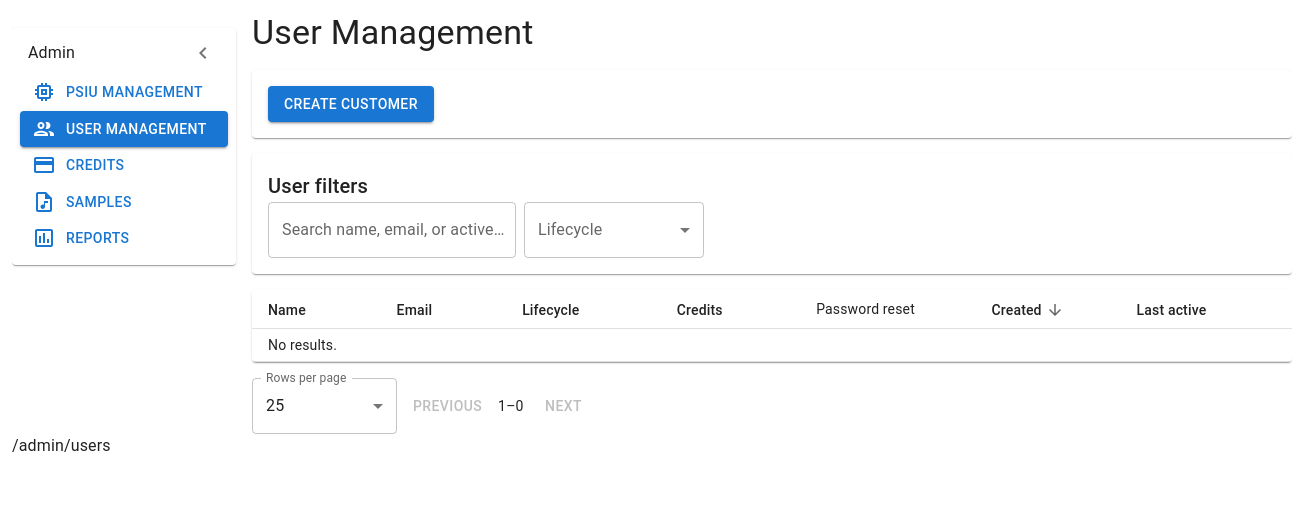
Scenario: administrator directory tables › ignores a stale directory response after the search URL changes
In the field labelled "Search name, email, or active PSIU serial": (392, 230) top-left (268, 202), bottom-right (516, 258), type "first"
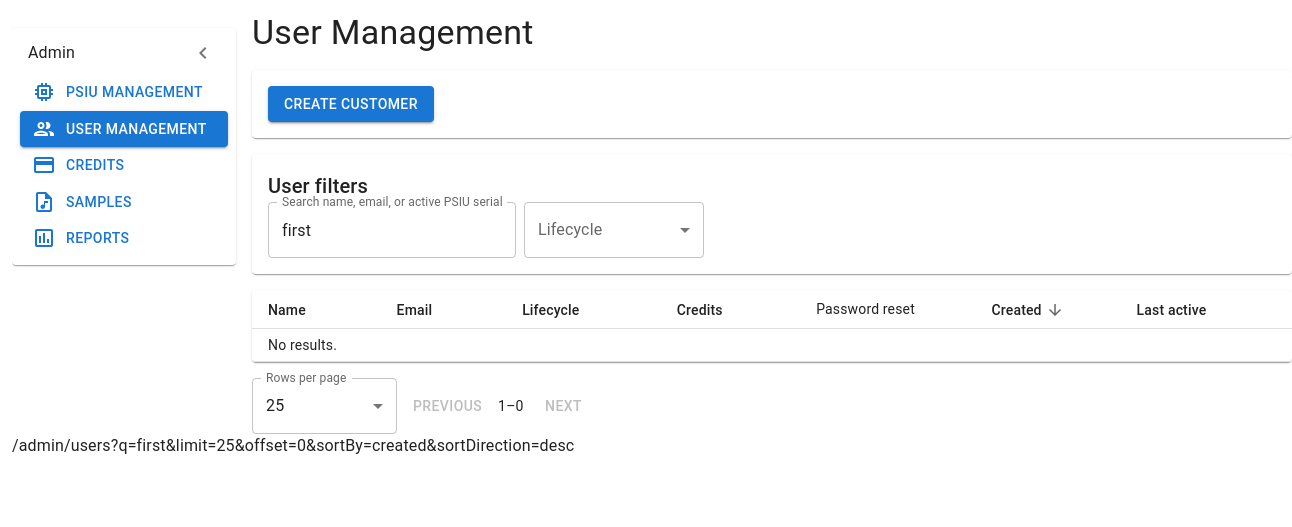
Replace the text in the field labelled "Search name, email, or active PSIU serial" with "second": (392, 230) top-left (268, 202), bottom-right (516, 258)
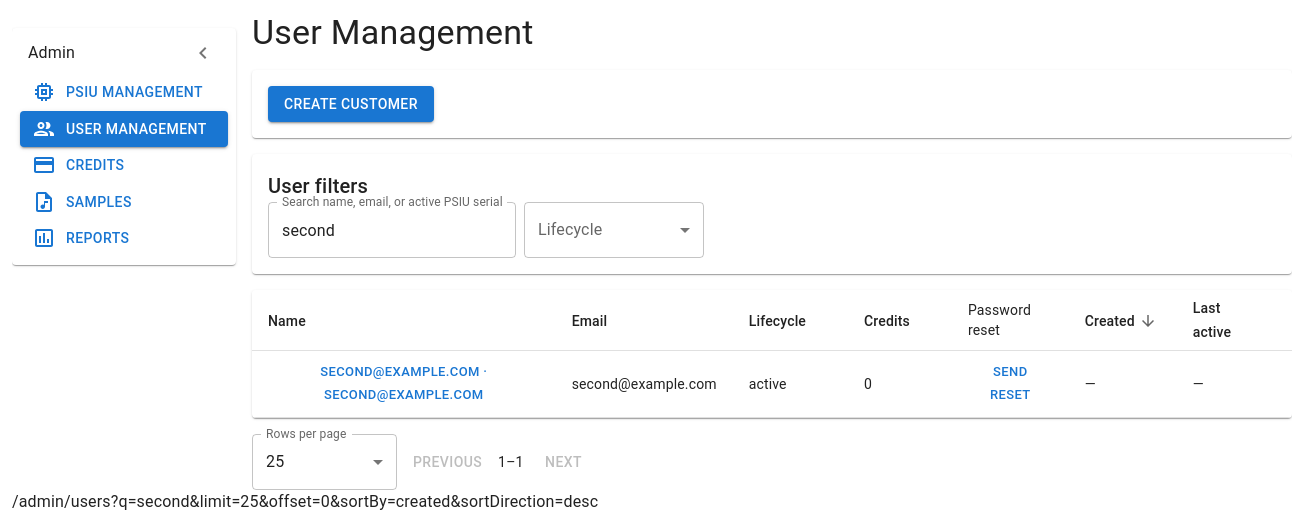
Now the button "second@example.com · second@example.com" is shown, box top-left (268, 358), bottom-right (540, 411)
